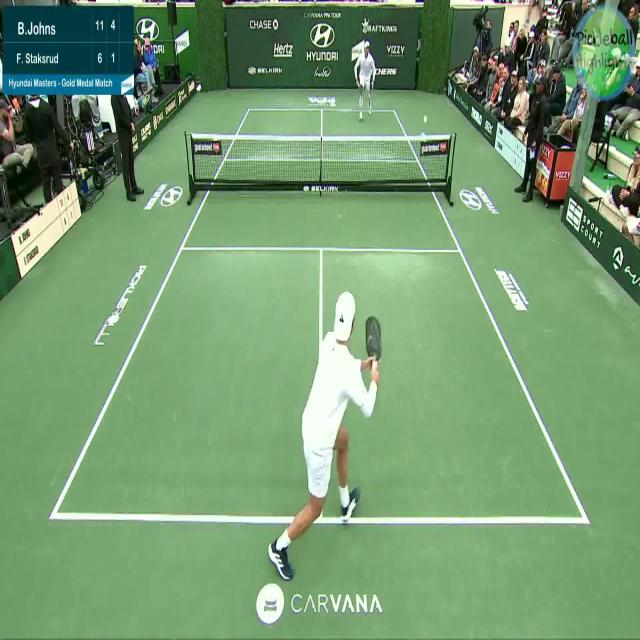Court: (51, 109, 585, 519)
ball: (422, 112, 428, 126)
